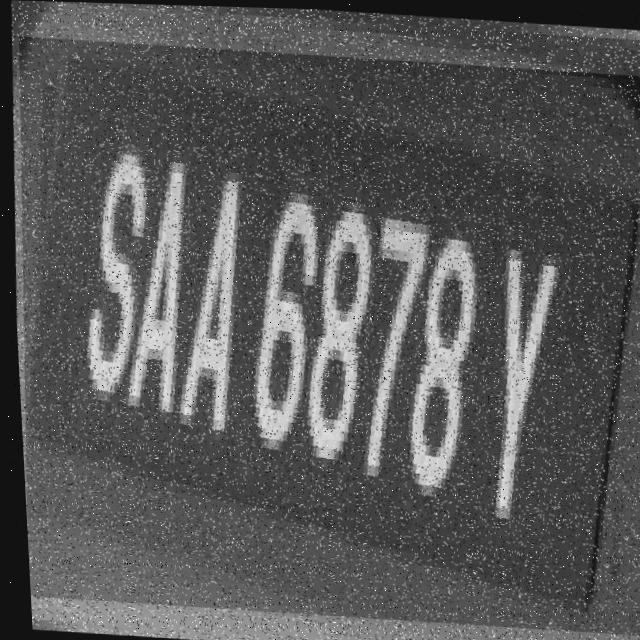LicensePlate: (1, 35, 640, 632)
